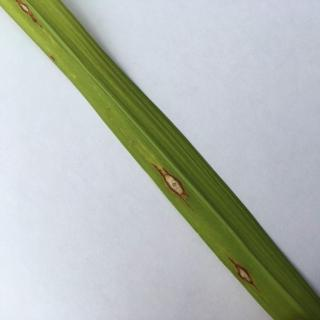Blast: (144, 150, 202, 216), (220, 242, 274, 307), (3, 0, 52, 34)
